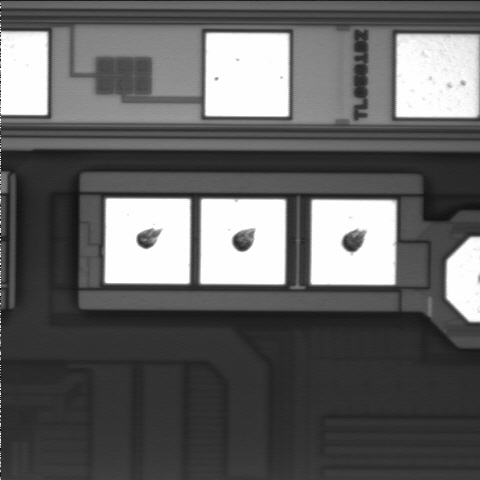pad: (105, 198, 190, 284), (200, 199, 286, 284), (311, 200, 396, 285), (205, 33, 289, 116), (396, 35, 478, 117)
